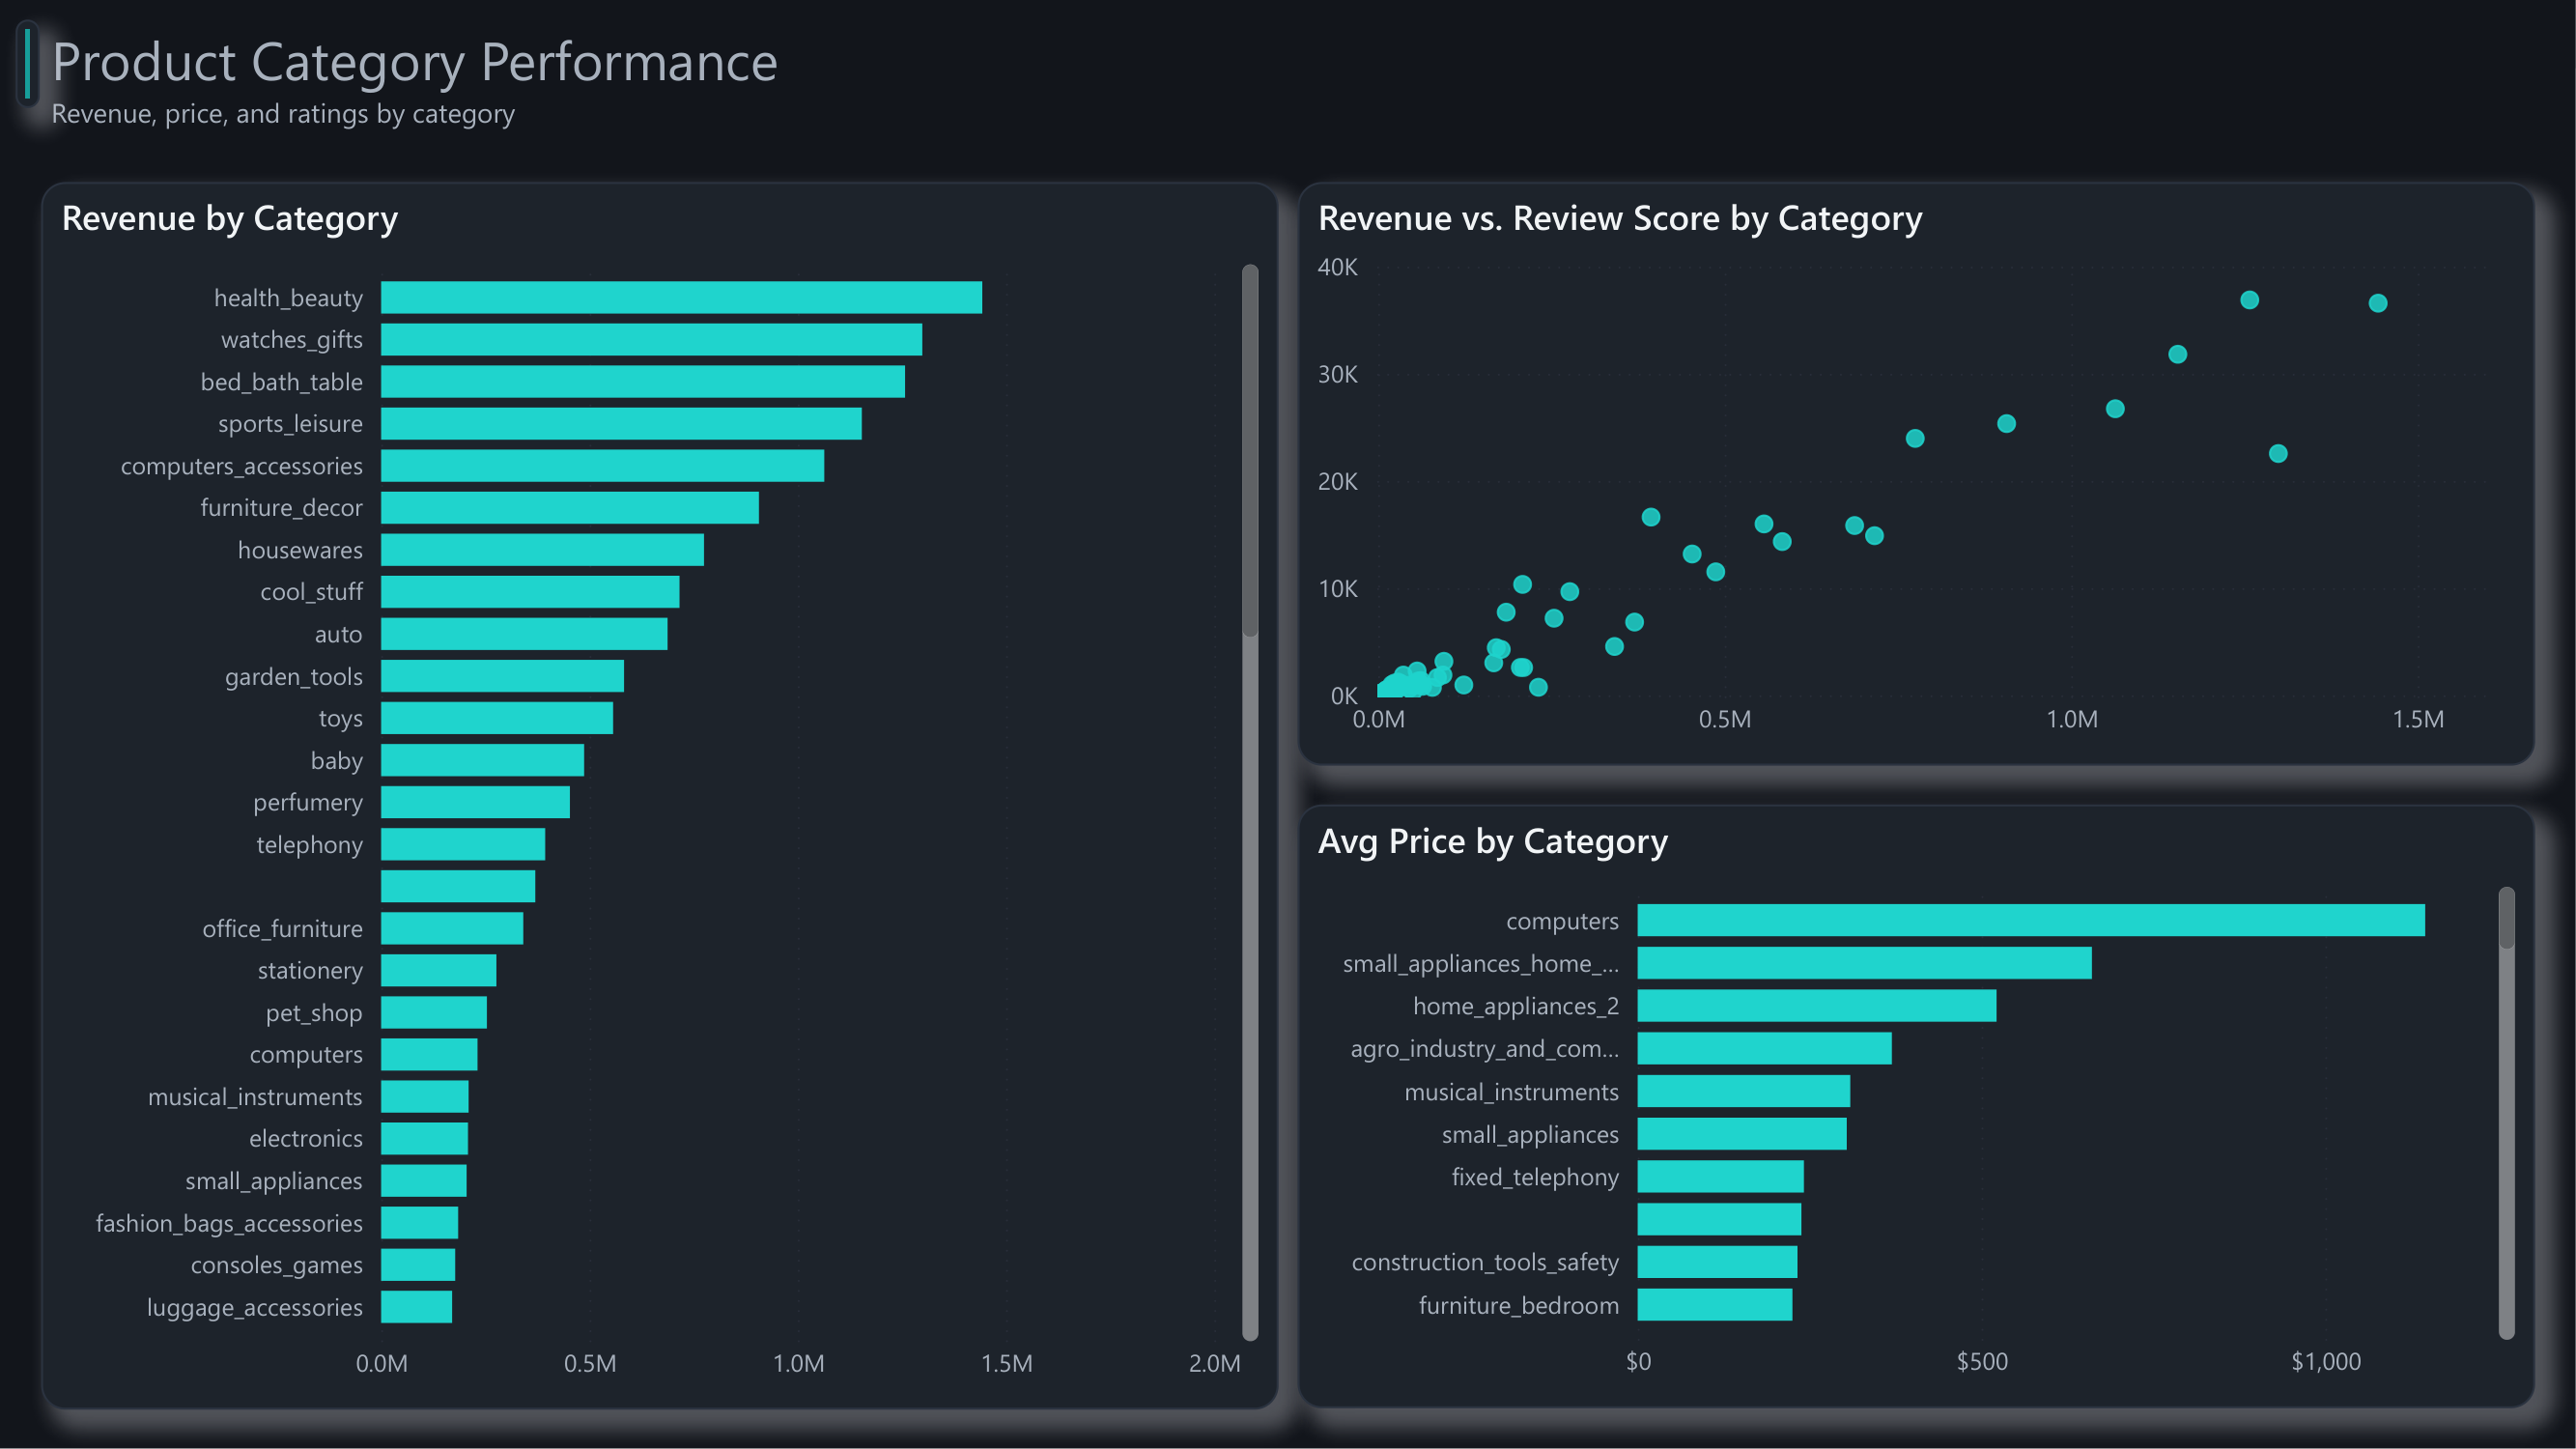

The page's visual inventory and layout, read from the dashboard file:
{"tool":"powerbi","page":{"name":"Product Categories","canvas":[1280,720],"ordinal":2},"visuals":[{"type":"barChart","title":"Revenue by Category","fields":{"Category":["olist_master_powerbi.primary_category"],"Y":["Sum(olist_master_powerbi.revenue)"]},"box":[20,90,615,610],"z":0},{"type":"scatterChart","title":"Revenue vs. Review Score by Category","fields":{"X":["Sum(olist_master_powerbi.revenue)"],"Y":["Sum(olist_master_powerbi.review_score)"],"Category":["olist_master_powerbi.primary_category"]},"box":[645,90,615,290],"z":1000},{"type":"clusteredBarChart","title":"Avg Price by Category","fields":{"Category":["olist_master_powerbi.primary_category"],"Y":["olist_master_powerbi.Avg Price"]},"box":[645,400,615,300],"z":2000},{"type":"textbox","box":[20,6,780,66],"z":3000},{"type":"shape","box":[8,10,12,44],"z":4000}]}

Visuals, with their boxes in screenshot pixels (x1, y1, x2, y2), scaled from the page's 1280x720 canvas onto the 2576x1449 screenshot:
"Revenue by Category" barChart: [41,182,1278,1408]
"Revenue vs. Review Score by Category" scatterChart: [1298,182,2535,765]
"Avg Price by Category" clusteredBarChart: [1298,805,2535,1408]
textbox: [41,12,1610,145]
shape: [16,20,41,109]
